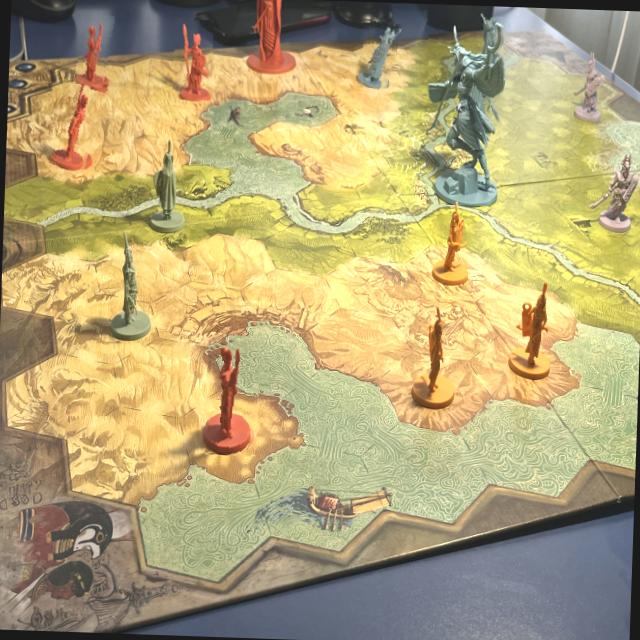amon: (76, 12, 113, 88)
amon_follower: (202, 334, 262, 456), (44, 74, 102, 172), (172, 19, 214, 100)
isis: (423, 15, 505, 206)
isis_follower: (356, 17, 401, 90)
